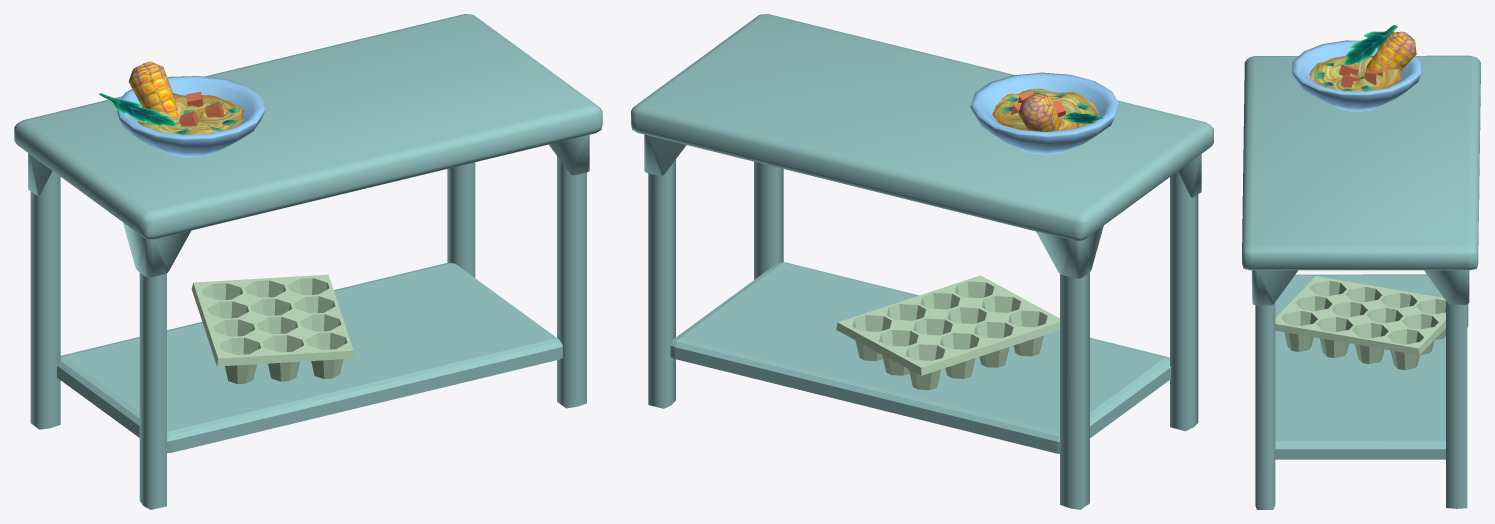
File: MesaCentral.glb
3 views of the same model, side by side, from view 1: azimuth 30°, elevation 25°; view 2: azimuth 150°, elevation 25°; view 3: azimuth 270°, elevation 25° (orthographic). The views are drawn at different scales.
Visible parts, largest first — view 1: mesa central.001; view 2: mesa central.001; view 3: mesa central.001.
Boxes of the visible parts, bbox=[...] form: mesa central.001: bbox=[14, 14, 602, 509]; mesa central.001: bbox=[631, 14, 1213, 509]; mesa central.001: bbox=[1242, 24, 1480, 509].
Bounding box in the file's own units: 3.86 × 2.94 × 1.97.
Materials: 7 (3 with a texture image).
